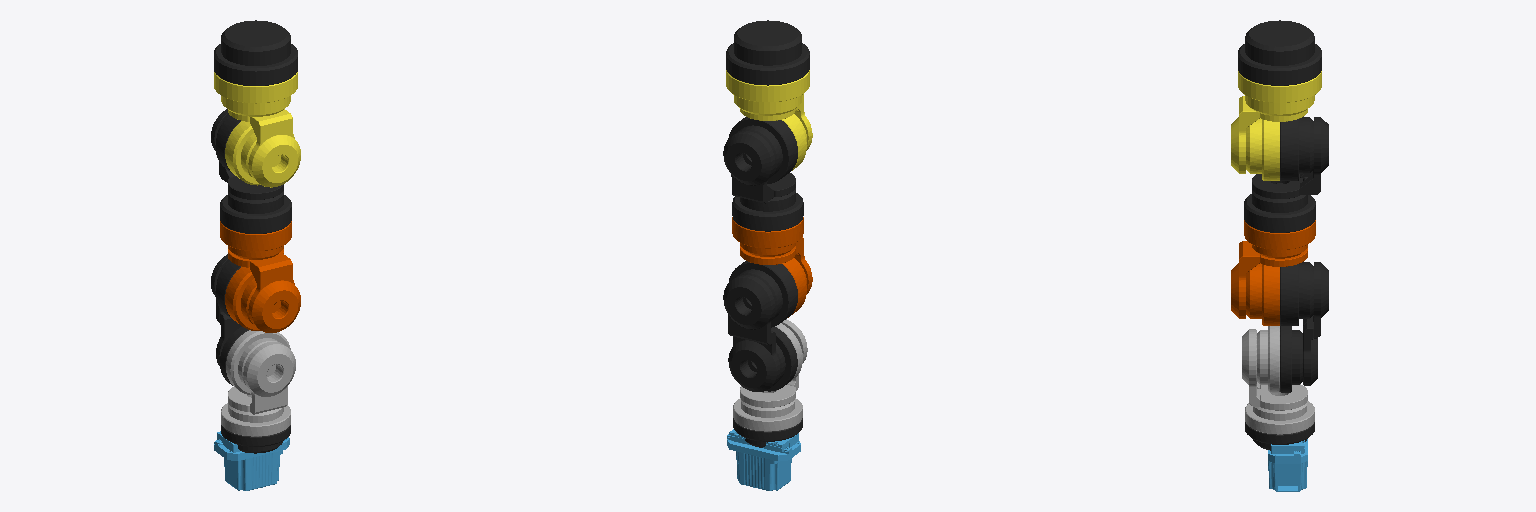
The robot description file, URDF, robot "sample_robot":
<?xml version="1.0" ?>
<!-- =================================================================================== -->
<!-- |    This document was autogenerated by xacro from sample.urdf.xacro              | -->
<!-- |    EDITING THIS FILE BY HAND IS NOT RECOMMENDED                                 | -->
<!-- =================================================================================== -->
<!-- top of urdf -->
<robot name="sample_robot" xmlns:xacro="http://ros.org/wiki/xacro">
  <!-- defined num and set of link and joint -->
  <!-- lowest level of xacro -->
  <!-- valiables to be used -->
  <material name="black">
    <color rgba="0.2 0.2 0.2 1.0"/>
  </material>
  <!-- FIXME add color -->
  <!-- link to provide the location reference for the arm -->
  <link name="base_link"/>
  <!-- 1. the first top link and joint -->
  <link name="sample_robot_mounting_link"/>
  <joint name="sample_robot_mounting_joint" type="fixed">
    <origin rpy="0 3.14159265359 0" xyz="0 0 0"/>
    <parent link="base_link"/>
    <child link="sample_robot_mounting_link"/>
  </joint>
  <joint name="bracket_0_1_joint" type="fixed">
    <origin rpy="0 0 0" xyz="0 0 0"/>
    <parent link="sample_robot_mounting_link"/>
    <child link="bracket_1_link"/>
  </joint>
  <link name="bracket_1_link">
    <visual>
      <origin rpy="0 0 0" xyz="0 0 0"/>
      <geometry>
        <mesh filename="bracket_1_small.stl"/>
      </geometry>
      <material name="black"/>
    </visual>
    <inertial>
      <mass value="0.609588"/>
      <!-- kg material: Al-->
      <origin rpy="0 0 0" xyz="0 0 0"/>
      <inertia ixx="1.140E+06" ixy="-1.278E-09" ixz="5.604E-05" iyy="1.140E+06" iyz="1.278E-10" izz="1.142E+06"/>
    </inertial>
    <collision>
      <origin rpy="0 0 0" xyz="0 0 0.0155"/>
      <geometry>
        <cylinder length="0.031" radius="0.0455"/>
      </geometry>
    </collision>
  </link>
  <!-- FIXME add llimit ulimit vlimit -->
  <joint name="bracket_1_2_joint" type="continuous">
    <origin rpy="0 0 0" xyz="0 0 0.051"/>
    <axis xyz="0 0 1"/>
    <parent link="bracket_1_link"/>
    <child link="bracket_2_link"/>
  </joint>
  <link name="bracket_2_link">
    <visual>
      <!-- FIXME change this to stl -->
      <origin rpy="0 0 0" xyz="0 0 0"/>
      <geometry>
        <mesh filename="bracket_2_small.stl"/>
      </geometry>
    </visual>
    <inertial>
      <origin rpy="0 0 0" xyz="0 0 0"/>
      <mass value="1.703374"/>
      <!-- kg Al -->
      <inertia ixx="1.131E+07" ixy="-0.004" ixz="0.008" iyy="1.074E+07" iyz="2.359E+06" izz="2.774E+06"/>
    </inertial>
    <collision>
      <origin rpy="0 0 0" xyz="0 0 0.08"/>
      <geometry>
        <cylinder length="0.160" radius="0.06025"/>
      </geometry>
    </collision>
  </link>
  <!-- FIXME add limit and ulimit vilimit -->
  <joint name="bracket_2_3_joint" type="continuous">
    <origin rpy="0 0 0" xyz="0 0 0.1125"/>
    <axis xyz="0 1 0"/>
    <parent link="bracket_2_link"/>
    <child link="bracket_3_link"/>
  </joint>
  <link name="bracket_3_link">
    <visual>
      <origin rpy="0 0 0" xyz="0 0 0"/>
      <geometry>
        <mesh filename="bracket_3_small.stl"/>
      </geometry>
      <material name="black"/>
    </visual>
    <inertial>
      <mass value="1.400547"/>
      <!-- kg material:Al -->
      <origin rpy="0 0 0" xyz="0 0 0"/>
      <inertia ixx="5.501E+06" ixy="0.004" ixz="9.410E-04" iyy="4.963E+06" iyz="-1.352E+05" izz="2.037E+06"/>
    </inertial>
    <collision>
      <origin rpy="0 0 0" xyz="0 0 0.077"/>
      <geometry>
        <cylinder length="0.154" radius="0.056"/>
      </geometry>
    </collision>
  </link>
  <!-- add color and limis -->
  <joint name="bracket_3_4_joint" type="continuous">
    <origin rpy="0 0 0" xyz="0 0 0.1065"/>
    <axis xyz="0 0 1"/>
    <parent link="bracket_3_link"/>
    <child link="bracket_4_link"/>
  </joint>
  <link name="bracket_4_link">
    <visual>
      <origin rpy="0 0 0" xyz="0 0 0"/>
      <geometry>
        <mesh filename="bracket_4_small.stl"/>
      </geometry>
    </visual>
    <inertial>
      <mass value="1.400547"/>
      <!-- kg material:Al-->
      <origin rpy="0 0 0" xyz="0 0 0"/>
      <inertia ixx="9.477E+06" ixy="-0.004" ixz="0.008" iyy="8.903E+06" iyz="2.204E+06" izz="2.074E+06"/>
    </inertial>
    <collision>
      <origin rpy="0 0 0" xyz="0 0 0.0765"/>
      <geometry>
        <cylinder length="0.153" radius="0.056"/>
      </geometry>
    </collision>
  </link>
  <joint name="bracket_4_5_joint" type="continuous">
    <origin rpy="0 0 0" xyz="0 0 0.1055"/>
    <axis xyz="0 1 0"/>
    <parent link="bracket_4_link"/>
    <child link="bracket_5_link"/>
  </joint>
  <link name="bracket_5_link">
    <visual>
      <origin rpy="0 0 0" xyz="0 0 0"/>
      <geometry>
        <mesh filename="bracket_5_small.stl"/>
      </geometry>
      <material name="black"/>
    </visual>
    <inertial>
      <mass value="1.466917"/>
      <!-- kg material: Al-->
      <origin rpy="0 0 0" xyz="0 0 0"/>
      <inertia ixx="8.003E+06" ixy="-5.689" ixz="-5.342" iyy="7.336E+06" iyz="-1.341E+06" izz="2.080E+06"/>
    </inertial>
    <collision>
      <origin rpy="0 0 0" xyz="-0.032 0 0.096"/>
      <geometry>
        <box size="0.064 0.095 0.192"/>
      </geometry>
    </collision>
  </link>
  <joint name="bracket_5_6_joint" type="continuous">
    <origin rpy="0 0 0" xyz="0 0 0.098"/>
    <axis xyz="0 1 0"/>
    <parent link="bracket_5_link"/>
    <child link="bracket_6_link"/>
  </joint>
  <link name="bracket_6_link">
    <visual>
      <origin rpy="0 0 0" xyz="0 0 0"/>
      <geometry>
        <mesh filename="bracket_6_small.stl"/>
      </geometry>
    </visual>
    <inertial>
      <mass value="1.033966"/>
      <!-- kg material: Al -->
      <origin rpy="0 0 0" xyz="0 0 0"/>
      <inertia ixx="4.047E+06" ixy="0.003" ixz="-8.494E-04" iyy="3.853E+06" iyz="4.974E+04" izz="1.196E+06"/>
    </inertial>
    <collision>
      <origin rpy="0 0 0" xyz="0 0 0.069"/>
      <geometry>
        <cylinder length="0.138" radius="0.04875"/>
      </geometry>
    </collision>
  </link>
  <joint name="bracket_6_7_joint" type="continuous">
    <origin rpy="0 0 0" xyz="0 0 0.0915"/>
    <axis xyz="0 0 1"/>
    <parent link="bracket_6_link"/>
    <child link="bracket_7_link"/>
  </joint>
  <link name="bracket_7_link">
    <visual>
      <origin rpy="0 0 0" xyz="0 0 0"/>
      <!-- need to rotate model -->
      <geometry>
        <mesh filename="bracket_7_small.stl"/>
      </geometry>
      <material name="black"/>
    </visual>
    <inertial>
      <mass value="0.29527"/>
      <!-- kg material:Al -->
      <origin rpy="0 0 0" xyz="0 0 0"/>
      <inertia ixx="2.678E+05" ixy="2.556E-10" ixz="3.456E-05" iyy="2.678E+05" iyz="0.00" izz="3.474E+05"/>
    </inertial>
    <collision>
      <origin rpy="0 0 0" xyz="0 0 0.0155"/>
      <geometry>
        <cylinder length="0.031" radius="0.0465"/>
      </geometry>
    </collision>
  </link>
  <joint name="bracket_7_end_effector_joint" type="fixed">
    <origin rpy="0 0 0" xyz="0 0 0.031"/>
    <parent link="bracket_7_link"/>
    <child link="end_effector_link"/>
  </joint>
  <link name="end_effector_link">
    <visual>
      <origin rpy="0 0 0" xyz="0 0 0"/>
      <geometry>
        <mesh filename="hand_small.stl"/>
      </geometry>
    </visual>
    <inertial>
      <mass value="0.26231"/>
      <!-- kg material: Al -->
      <origin rpy="0 0 0" xyz="0 0 0"/>
      <inertia ixx="2.074E+05" ixy="-653.546" ixz="1857.577" iyy="3.348E+05" iyz="809.375" izz="2.594E+05"/>
    </inertial>
    <collision>
      <origin rpy="0 0 0" xyz="0.0475 0.027 0.02975"/>
      <geometry>
        <box size="0.095 0.054 0.0595"/>
      </geometry>
    </collision>
  </link>
</robot>

--- What the picture shows (computed from the rendered views, not written in the file) ---
The picture shows the robot from 3 angles, left to right: view 1: azimuth 30°, elevation 25°; view 2: azimuth 150°, elevation 25°; view 3: azimuth 270°, elevation 25°; orthographic projection.
Model sample_robot with 10 links and 9 joints (6 continuous, 3 fixed), rooted at base_link, posed all joints at 0.
Links seen in each view (by area): view 1: bracket_2_link, bracket_4_link, bracket_6_link, bracket_1_link, bracket_3_link, end_effector_link, bracket_5_link, bracket_7_link; view 2: bracket_5_link, bracket_3_link, bracket_1_link, bracket_2_link, bracket_6_link, bracket_4_link, end_effector_link, bracket_7_link; view 3: bracket_3_link, bracket_2_link, bracket_5_link, bracket_4_link, bracket_6_link, bracket_1_link, end_effector_link, bracket_7_link.
Boxes of the visible links, left/top/right/bottom form: bracket_2_link: left=214, top=72, right=300, bottom=187; bracket_4_link: left=220, top=221, right=300, bottom=332; bracket_6_link: left=221, top=330, right=295, bottom=436; bracket_1_link: left=214, top=20, right=297, bottom=85; bracket_3_link: left=211, top=109, right=291, bottom=233; end_effector_link: left=214, top=431, right=289, bottom=490; bracket_5_link: left=211, top=254, right=248, bottom=385; bracket_7_link: left=221, top=425, right=290, bottom=453; bracket_5_link: left=723, top=261, right=797, bottom=391; bracket_3_link: left=723, top=117, right=803, bottom=231; bracket_1_link: left=726, top=20, right=809, bottom=85; bracket_2_link: left=726, top=70, right=812, bottom=170; bracket_6_link: left=733, top=319, right=807, bottom=431; bracket_4_link: left=732, top=217, right=812, bottom=317; end_effector_link: left=727, top=429, right=800, bottom=490; bracket_7_link: left=733, top=418, right=802, bottom=447; bracket_3_link: left=1244, top=117, right=1328, bottom=232; bracket_2_link: left=1231, top=71, right=1321, bottom=180; bracket_5_link: left=1280, top=262, right=1328, bottom=392; bracket_4_link: left=1231, top=220, right=1315, bottom=325; bracket_6_link: left=1242, top=326, right=1314, bottom=434; bracket_1_link: left=1238, top=20, right=1321, bottom=85; end_effector_link: left=1268, top=439, right=1307, bottom=491; bracket_7_link: left=1245, top=422, right=1314, bottom=450.
Size in the robot's own frame: 0.112 by 0.129 by 0.6555 metres.
8 mesh visuals loaded from 8 distinct referenced files (8 binary STL).